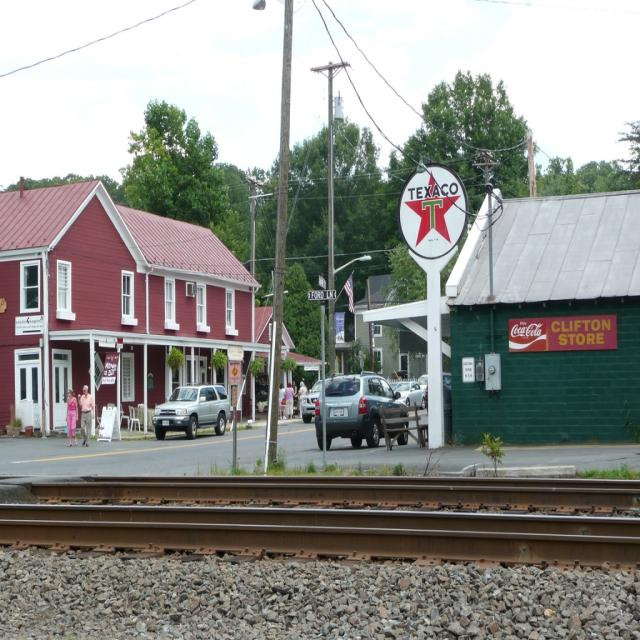texaco: (399, 168, 467, 258)
